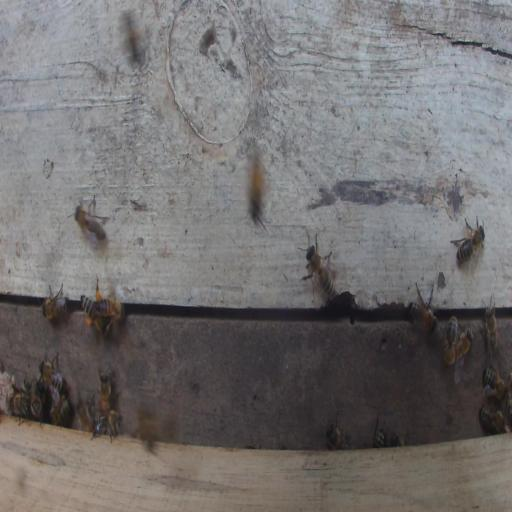bee: (302, 242, 338, 306), (75, 194, 107, 248), (407, 282, 438, 337), (249, 149, 268, 230), (455, 220, 486, 265), (79, 289, 109, 335), (40, 283, 67, 321), (482, 299, 498, 359), (91, 411, 123, 441), (39, 353, 62, 392), (482, 365, 506, 402), (479, 406, 507, 433), (75, 397, 94, 432), (445, 315, 458, 366), (50, 393, 70, 425), (10, 390, 30, 422), (455, 328, 473, 363), (96, 299, 126, 319), (326, 423, 348, 450), (98, 370, 111, 414), (373, 427, 385, 447), (31, 394, 41, 417), (22, 378, 31, 397)
